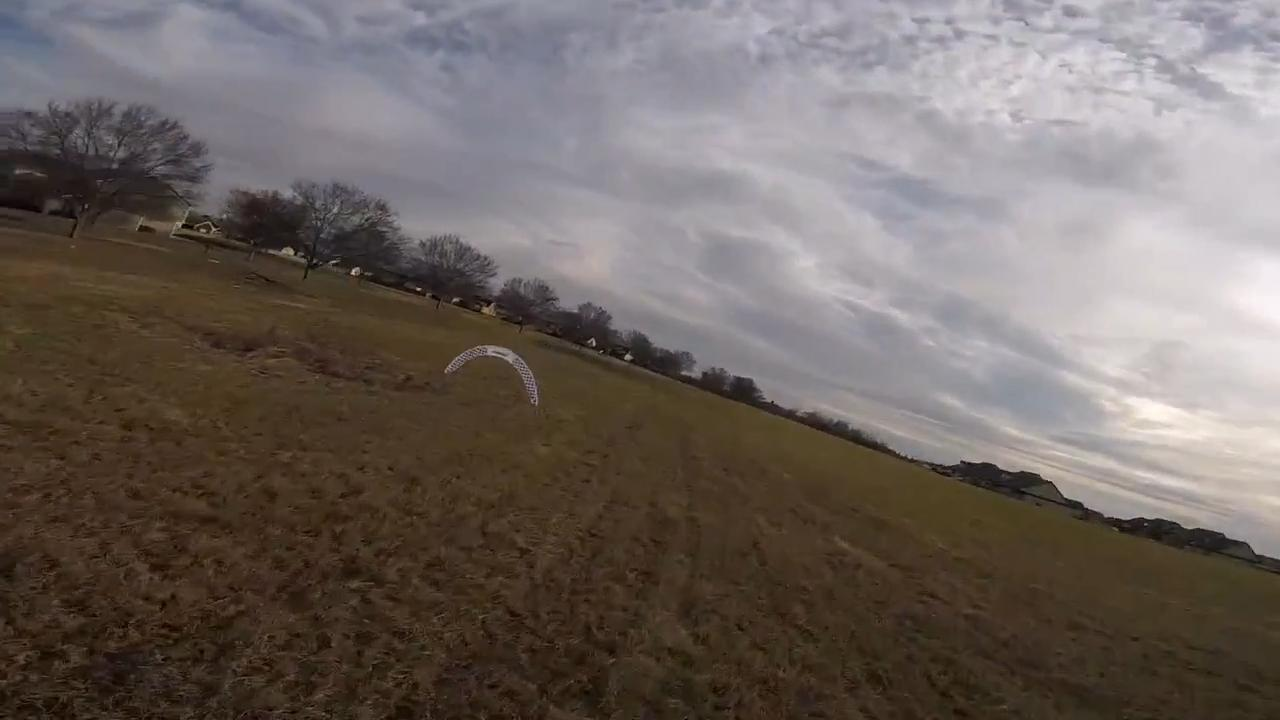gate: (438, 342, 540, 408)
